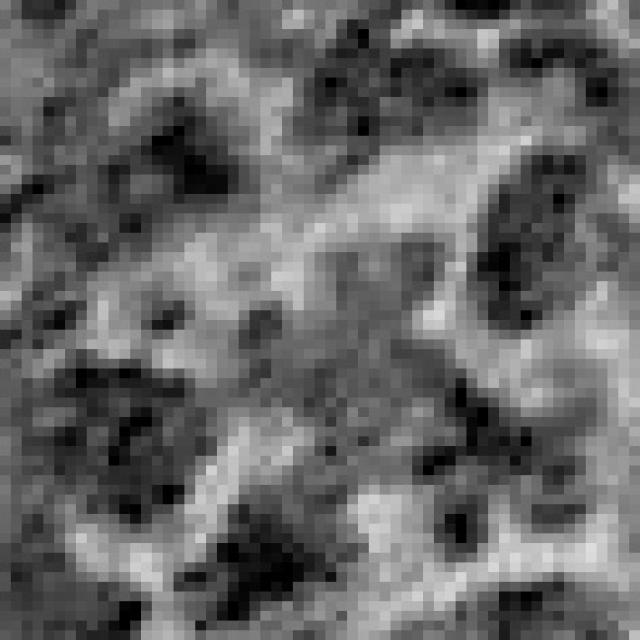inner: (238, 234, 456, 482)
lobe: (31, 108, 271, 283), (272, 22, 493, 191), (20, 356, 228, 529), (416, 388, 599, 562), (469, 143, 628, 336), (174, 475, 369, 628)
outer: (0, 0, 640, 640)
